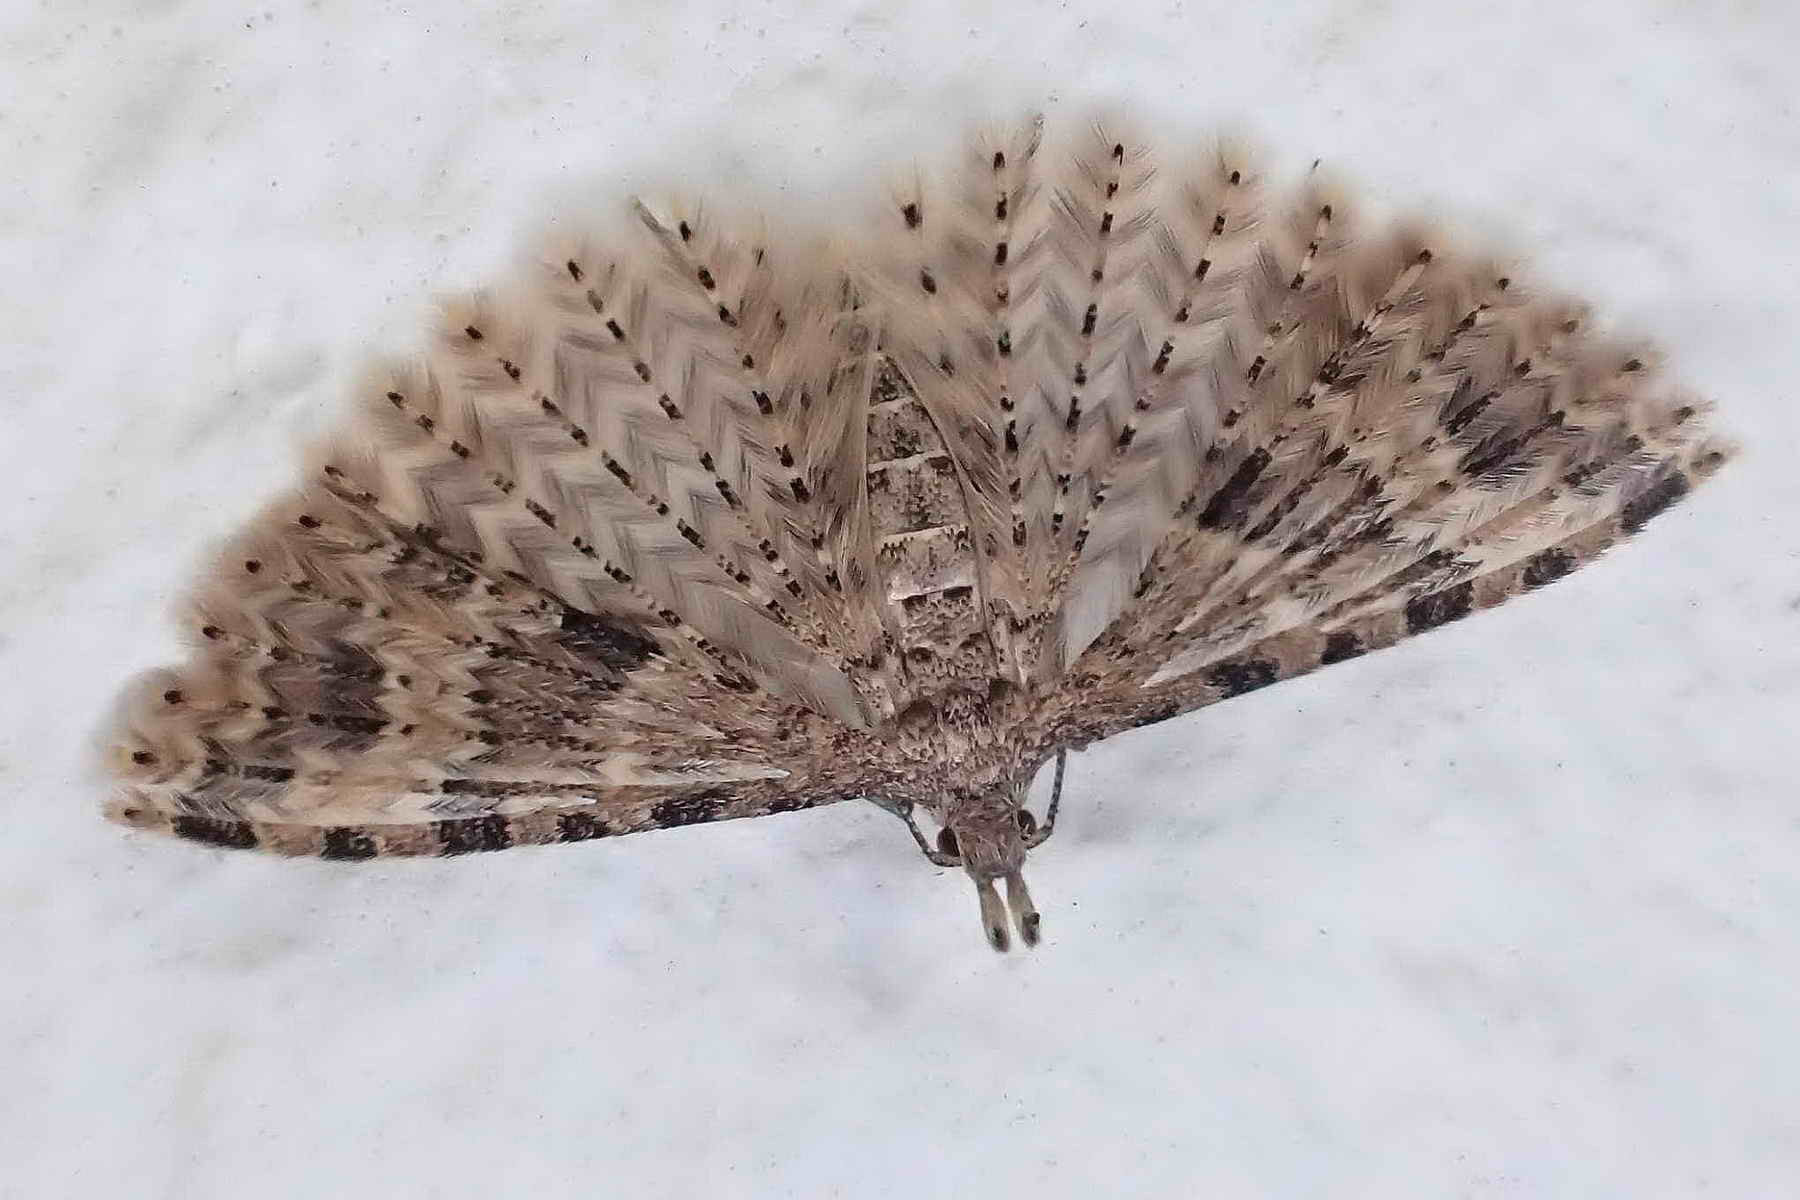Alucitidae: (75, 92, 1750, 948)
moth: (74, 91, 1749, 946)
